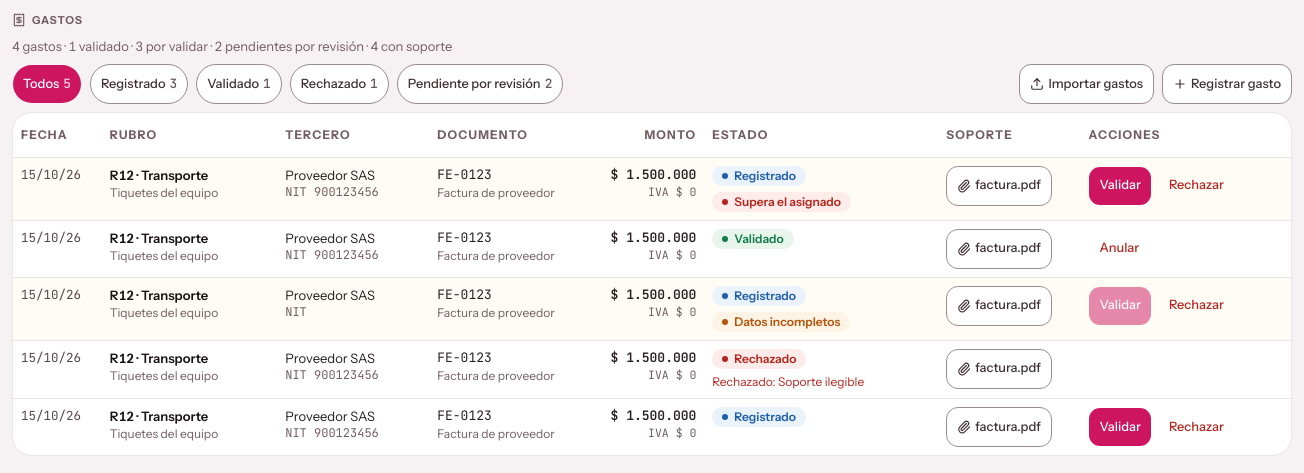
Test: ProjectGastos › filter chips › Pendiente por revisión keeps REGISTRADO expenses with the overspend alert or incomplete data (D5)
What coordinates should you click on to do the following:
click the button "Pendiente por revisión 2"
I would click on:
 (480, 84)
Its box is x1=397 y1=64 x2=563 y2=104.
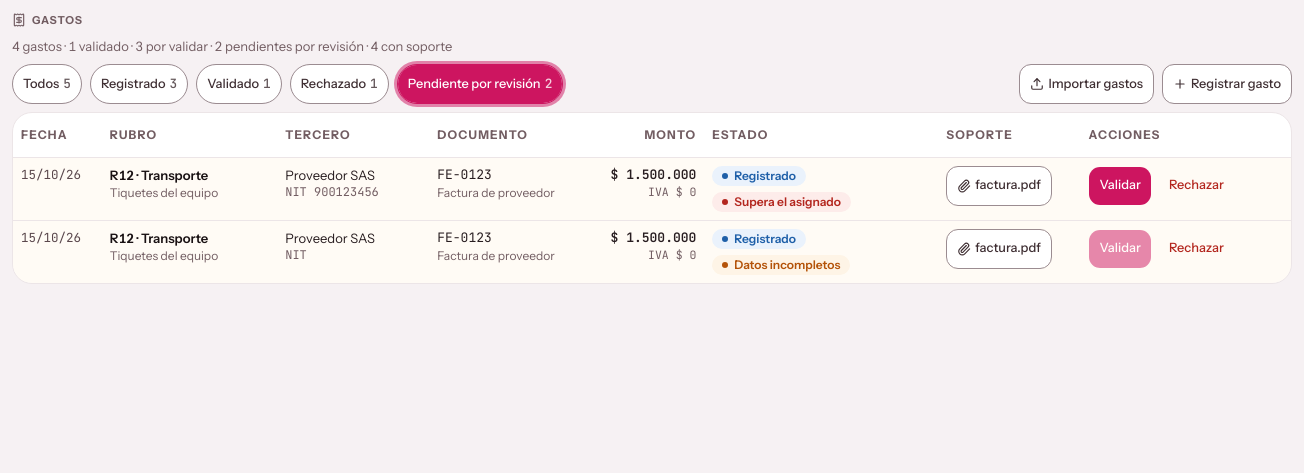
expect the row with test id "gasto-fila" shows "Supera el asignado": met, box x1=734 y1=194 x2=841 y2=208
expect the number of rows with test id "gasto-fila" is 2: met, box x1=13 y1=157 x2=1291 y2=220; x1=13 y1=220 x2=1291 y2=282
